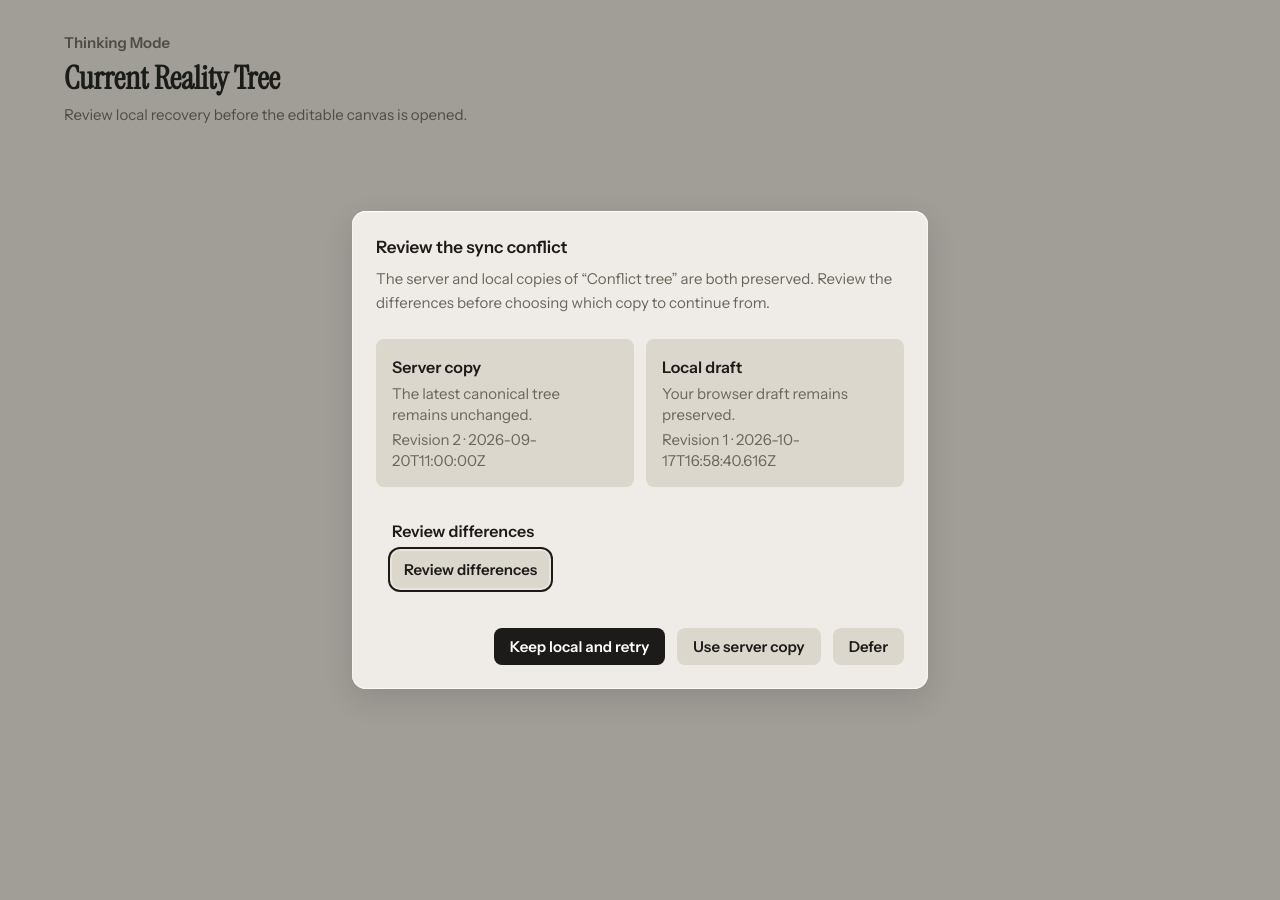
Test: CrtWorkspace tree lifecycle › classifies a base revision mismatch as a conflict while preserving both copies
Expected: the heading "Review the sync conflict" is shown, [376, 237, 568, 257]
Expected: the heading "Server copy" is shown, [392, 357, 481, 377]
Press Escape
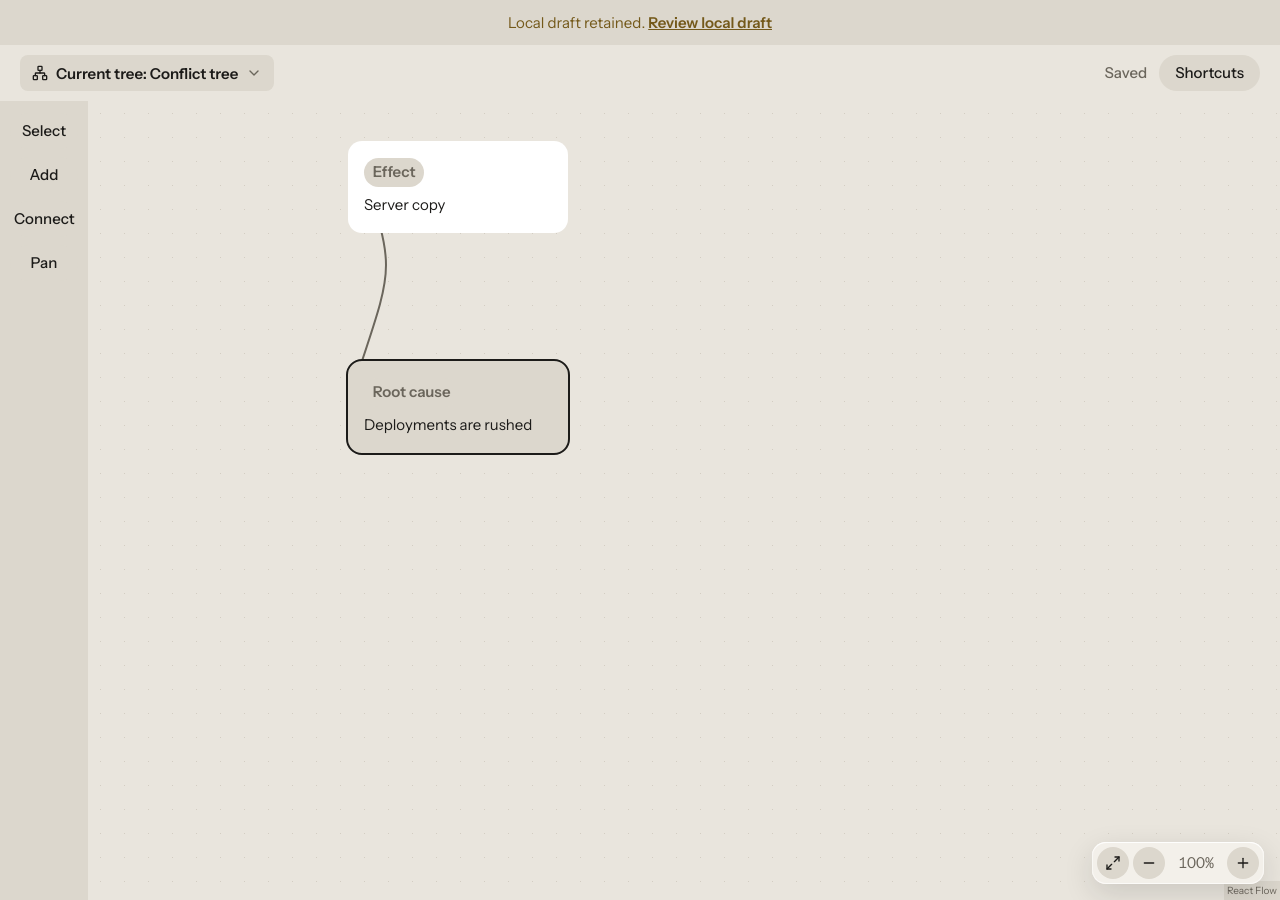
Expected: the text "Local draft retained. Review local draft" is shown, [0, 0, 1279, 45]
Click the button "Review local draft".
click(710, 22)  # box [648, 12, 772, 33]
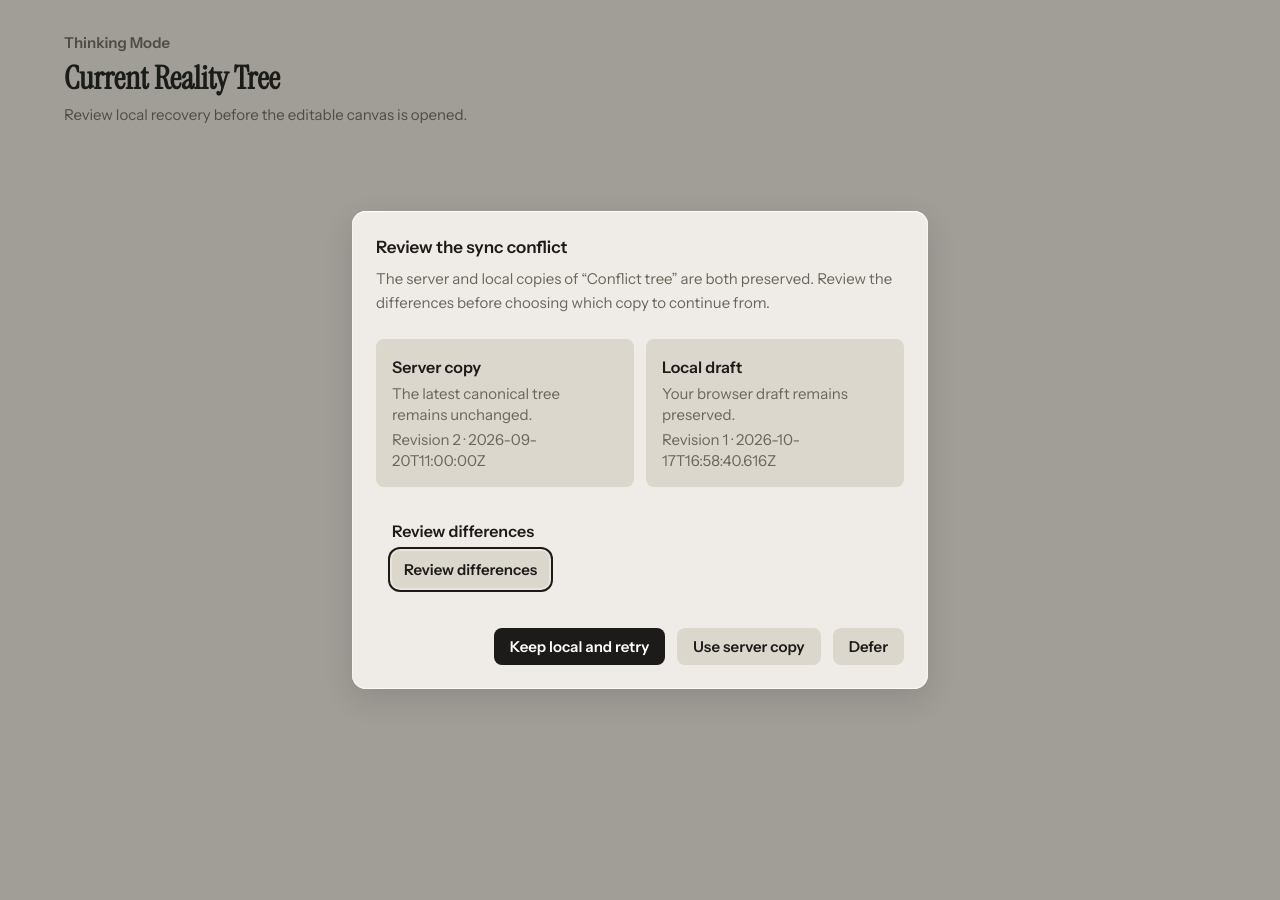
Expected: the heading "Review the sync conflict" is shown, [376, 237, 568, 257]
Expected: the heading "Server copy" is shown, [392, 357, 481, 377]
